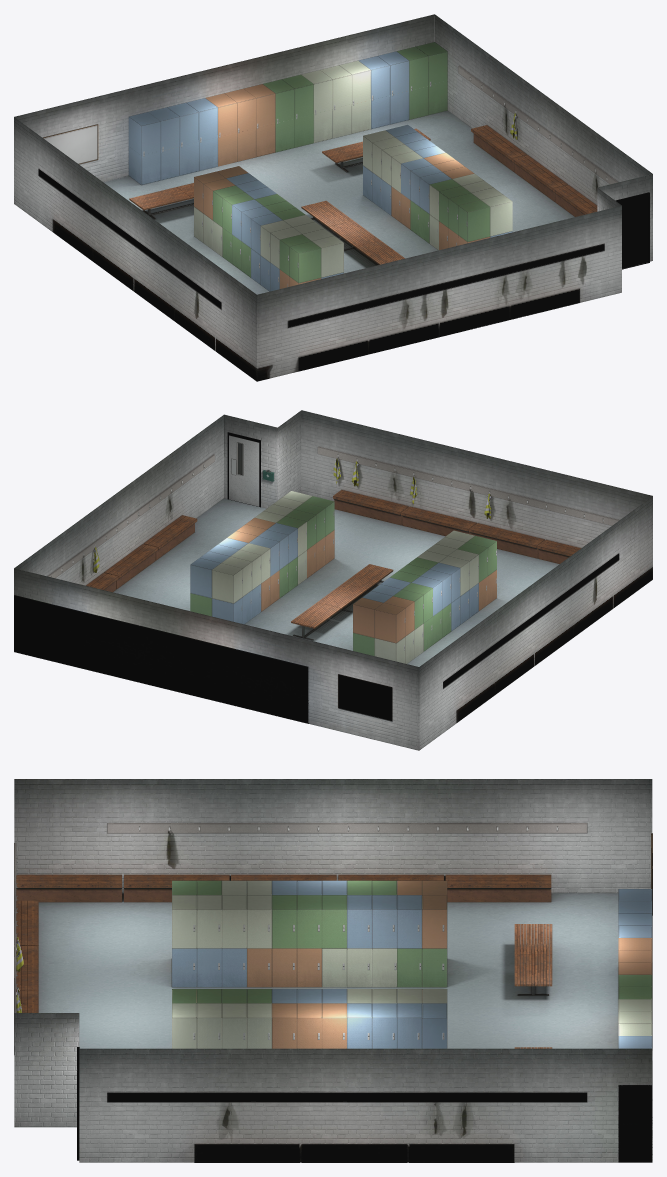
The model's file is locker_block.glb.
The picture shows the model from 3 angles, top to bottom: view 1: azimuth 30°, elevation 25°; view 2: azimuth 150°, elevation 25°; view 3: azimuth 270°, elevation 25°; orthographic projection. The views are drawn at different scales.
Visible parts, largest first — view 1: walls_4; view 2: walls_4; view 3: walls_4.
Part boxes in pixels (box(x1,y1,x2,y2)): walls_4: box(14, 14, 652, 381); walls_4: box(14, 410, 652, 750); walls_4: box(14, 779, 652, 1162).
Size of the model in its own units: 14.02 by 2.77 by 14.02.
Materials: 20 (20 with a texture image).
